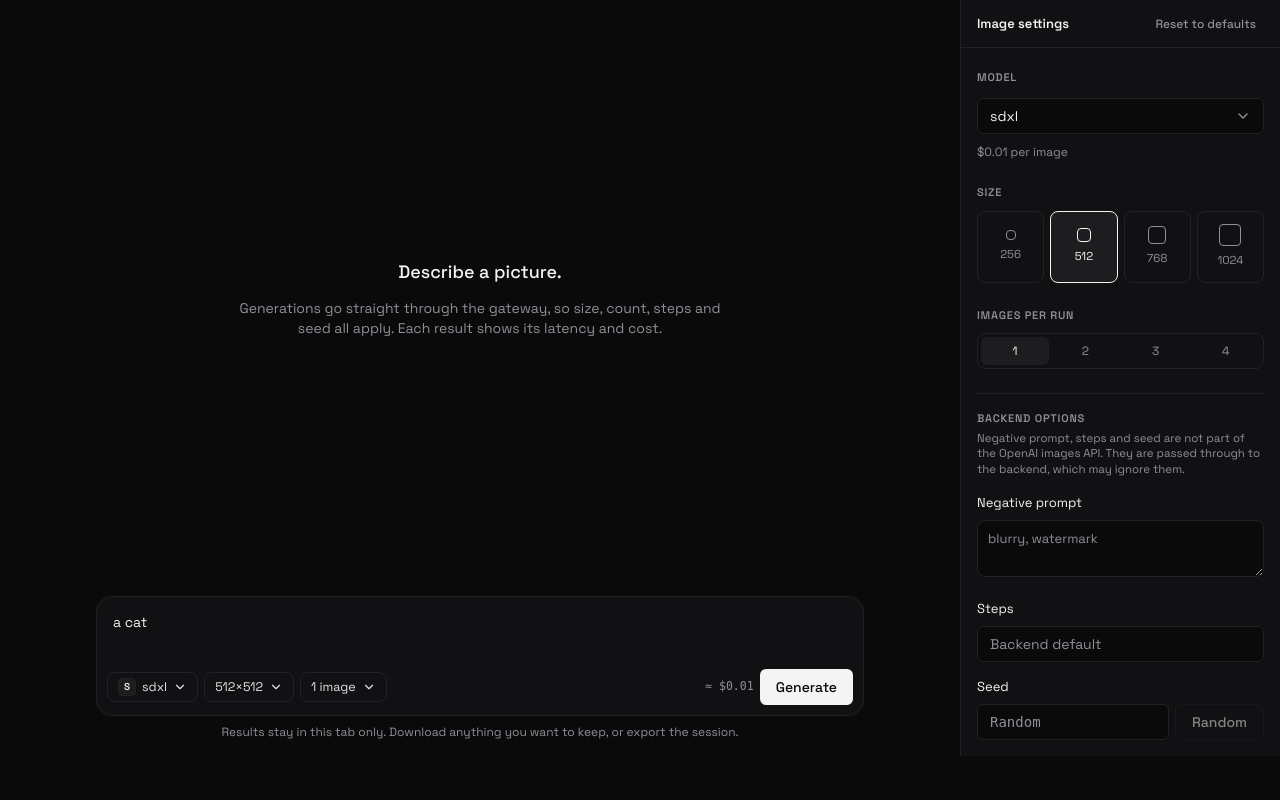
Test case: ImageWorkspace › collapses a long backend error behind a disclosure
The image size is (1280, 800).
Click the button with id "image-generate": (806, 687) [760, 669, 853, 705]
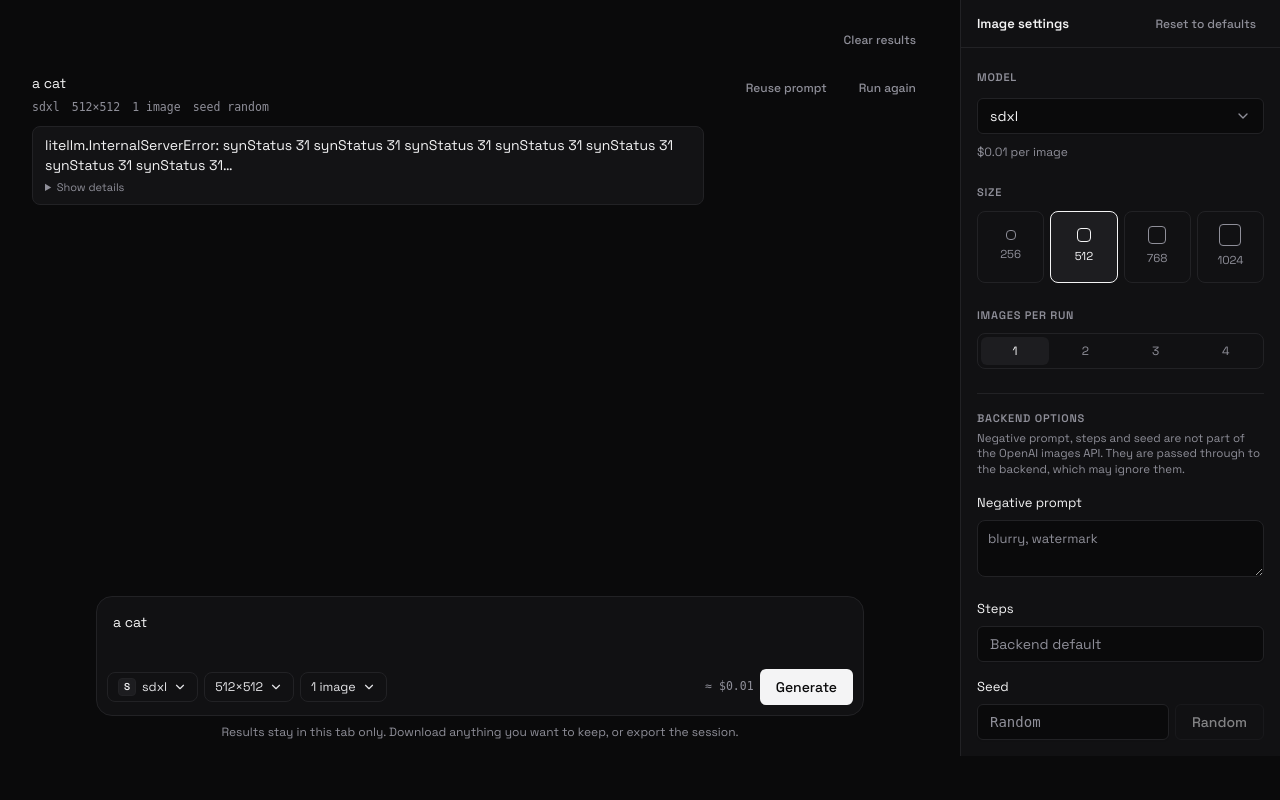
Result: the text "…" is shown at [45, 135, 691, 175]
Result: the heading "Show details" is shown at [57, 180, 124, 194]
